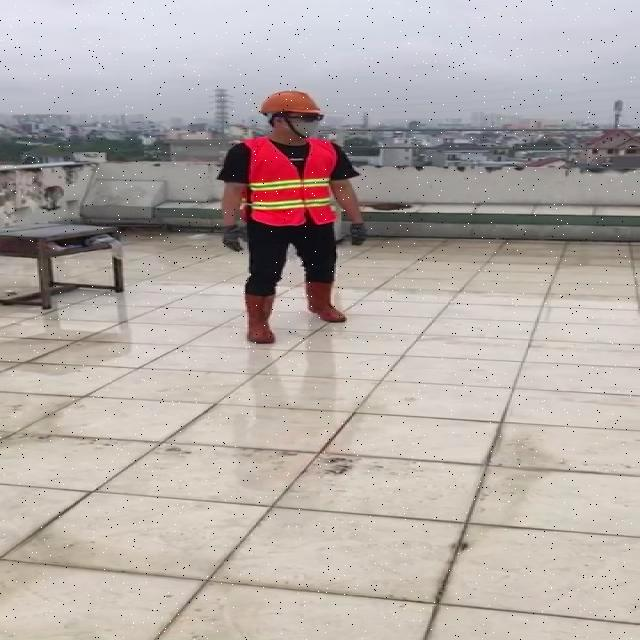Hard_hat: (255, 87, 330, 123)
Vest: (244, 136, 337, 230)
